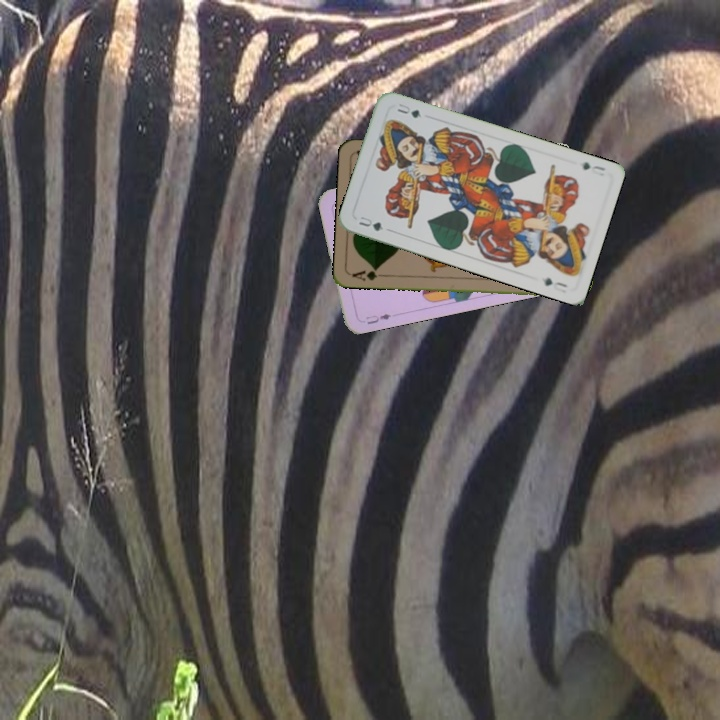EU: (362, 310, 393, 327)
GA: (348, 264, 388, 283)
GU: (355, 212, 386, 234), (578, 158, 608, 175)
